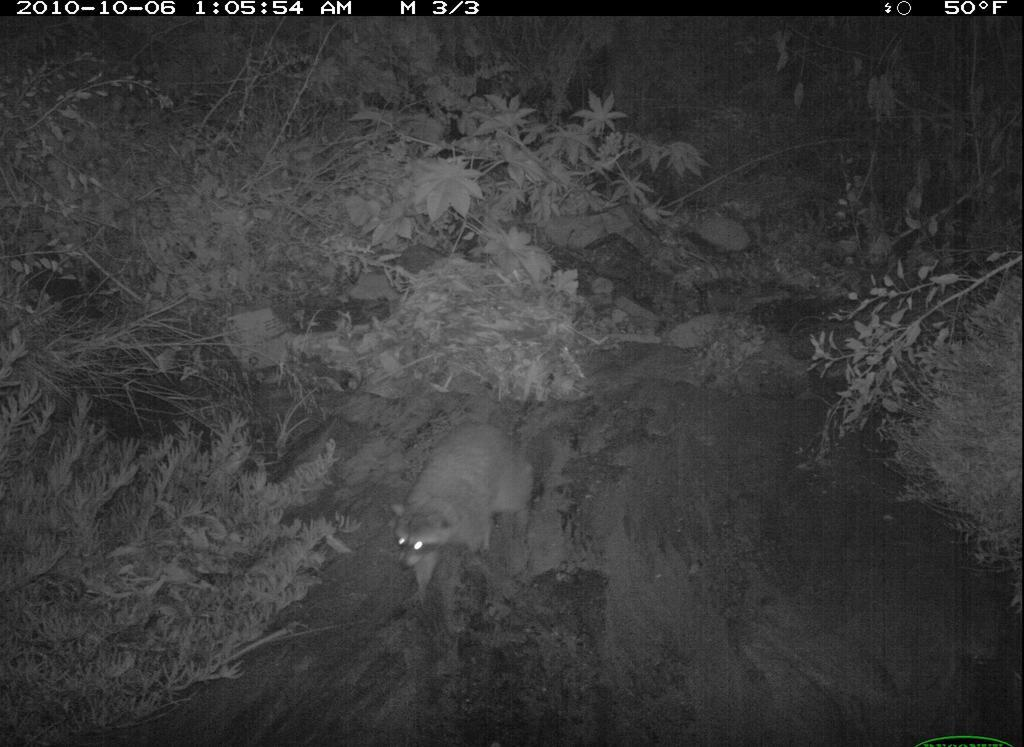raccoon: (381, 418, 541, 610)
